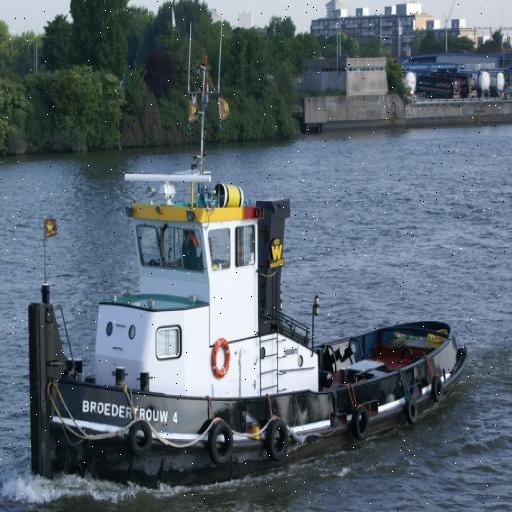tugboat: (23, 17, 472, 509)
